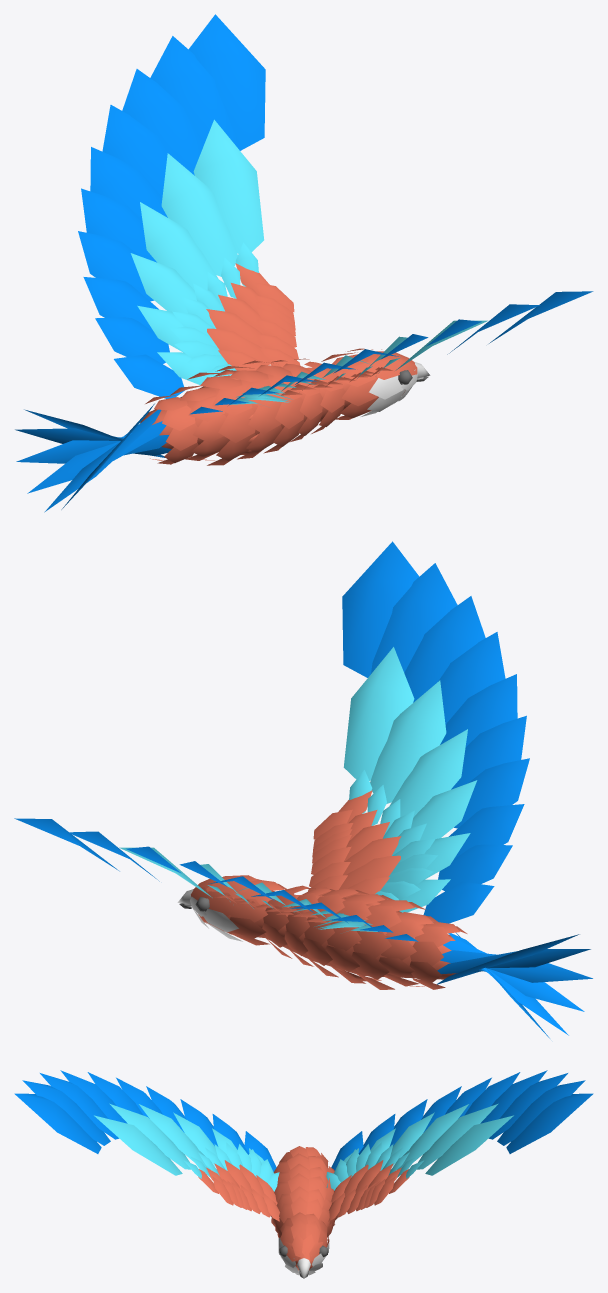
The model's file is animals-parrot-157.glb.
The picture shows the model from 3 angles, top to bottom: view 1: azimuth 30°, elevation 25°; view 2: azimuth 150°, elevation 25°; view 3: azimuth 270°, elevation 25°; orthographic projection. The views are drawn at different scales.
Parts seen in each view (by area): view 1: Parrot.3; view 2: Parrot.3; view 3: Parrot.3.
Boxes of the visible parts, <box> form: Parrot.3: <box>15,14,593,512</box>; Parrot.3: <box>14,541,592,1038</box>; Parrot.3: <box>14,1070,593,1278</box>.
Bounding box in the file's own units: 220 × 146 × 371.
